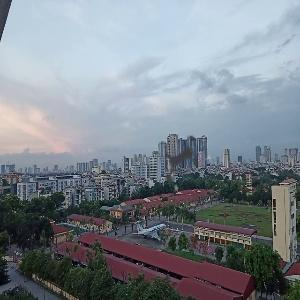drone: (137, 111, 233, 207)
